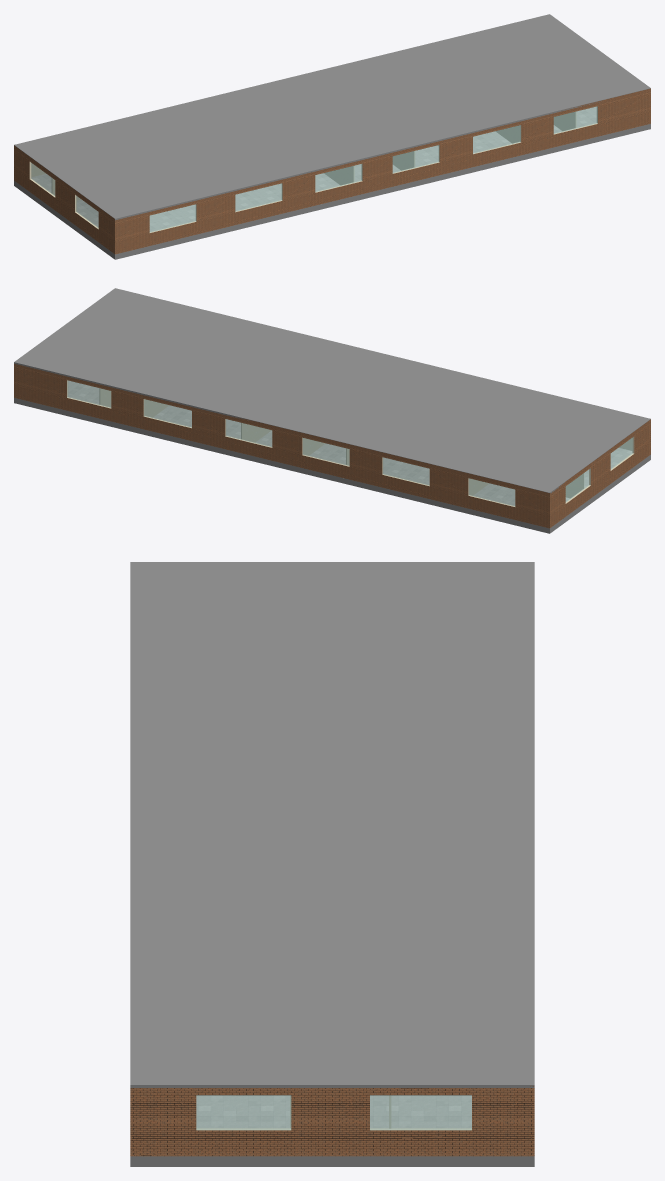
The picture shows the model from 3 angles, top to bottom: view 1: azimuth 30°, elevation 25°; view 2: azimuth 150°, elevation 25°; view 3: azimuth 270°, elevation 25°; orthographic projection. The views are drawn at different scales.
Parts seen in each view (by area): view 1: erlouduanzi001, erlouwaiqiang, erlouboli, erloudimian, erlouduanzi, Box002, erlouneiqiang; view 2: erlouduanzi001, erlouwaiqiang, erlouboli, erlouduanzi, erloudimian, Box002, erlouneiqiang; view 3: erlouduanzi001, erlouwaiqiang, erlouboli, erloudimian, erlouduanzi.
Part boxes in pixels (<box>): erlouduanzi001: <box>14,14,650,220</box>; erlouwaiqiang: <box>14,88,650,254</box>; erlouboli: <box>31,106,597,232</box>; erloudimian: <box>32,107,596,231</box>; erlouduanzi: <box>14,124,650,259</box>; Box002: <box>51,111,576,200</box>; erlouneiqiang: <box>29,106,597,232</box>; erlouduanzi001: <box>14,288,650,493</box>; erlouwaiqiang: <box>14,363,650,528</box>; erlouboli: <box>67,380,632,506</box>; erlouduanzi: <box>14,398,650,533</box>; erloudimian: <box>68,381,632,505</box>; Box002: <box>99,388,584,498</box>; erlouneiqiang: <box>67,380,634,506</box>; erlouduanzi001: <box>130,562,534,1087</box>; erlouwaiqiang: <box>130,1085,534,1156</box>; erlouboli: <box>196,1095,471,1130</box>; erloudimian: <box>196,1095,471,1128</box>; erlouduanzi: <box>130,1156,534,1166</box>.
Bounding box in the file's own units: 497 × 36.28 × 162.
5 materials, 3 textured.
